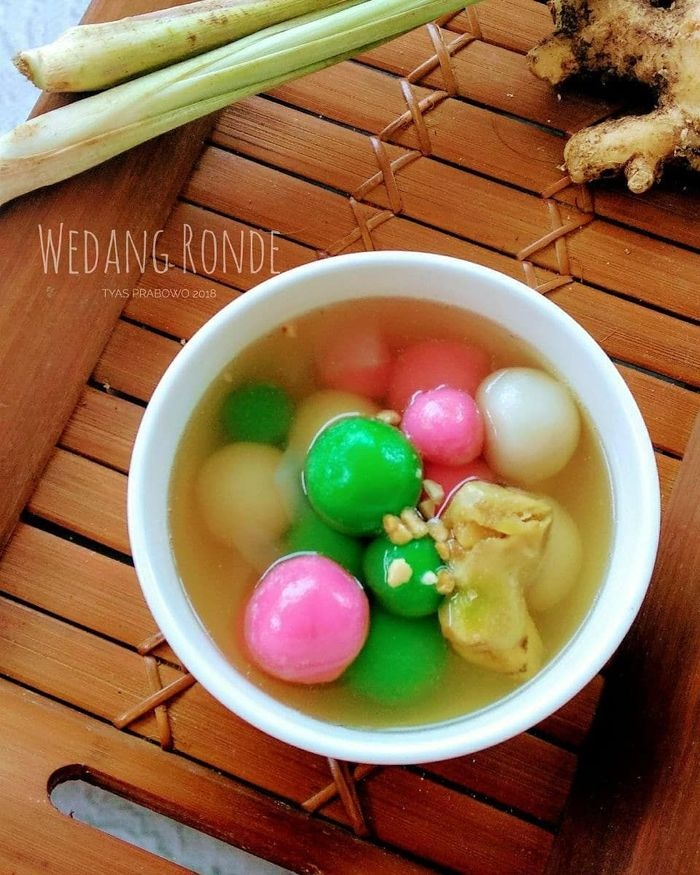ronde: (166, 292, 614, 731)
